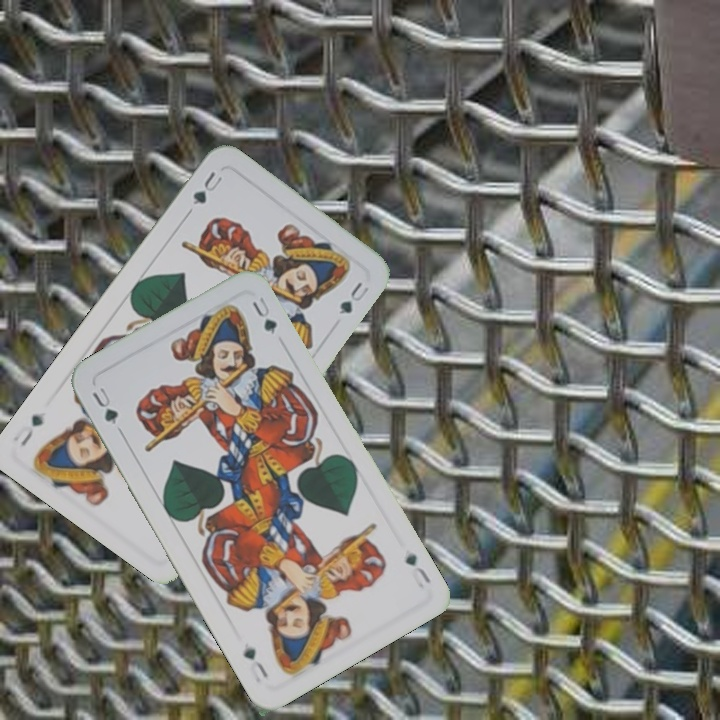GU: (88, 381, 121, 427), (188, 167, 225, 208), (401, 548, 434, 592)
